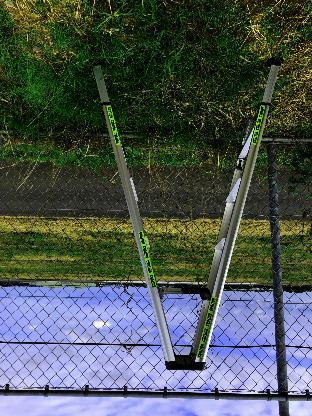F35: (96, 283, 119, 289), (114, 284, 126, 288)
